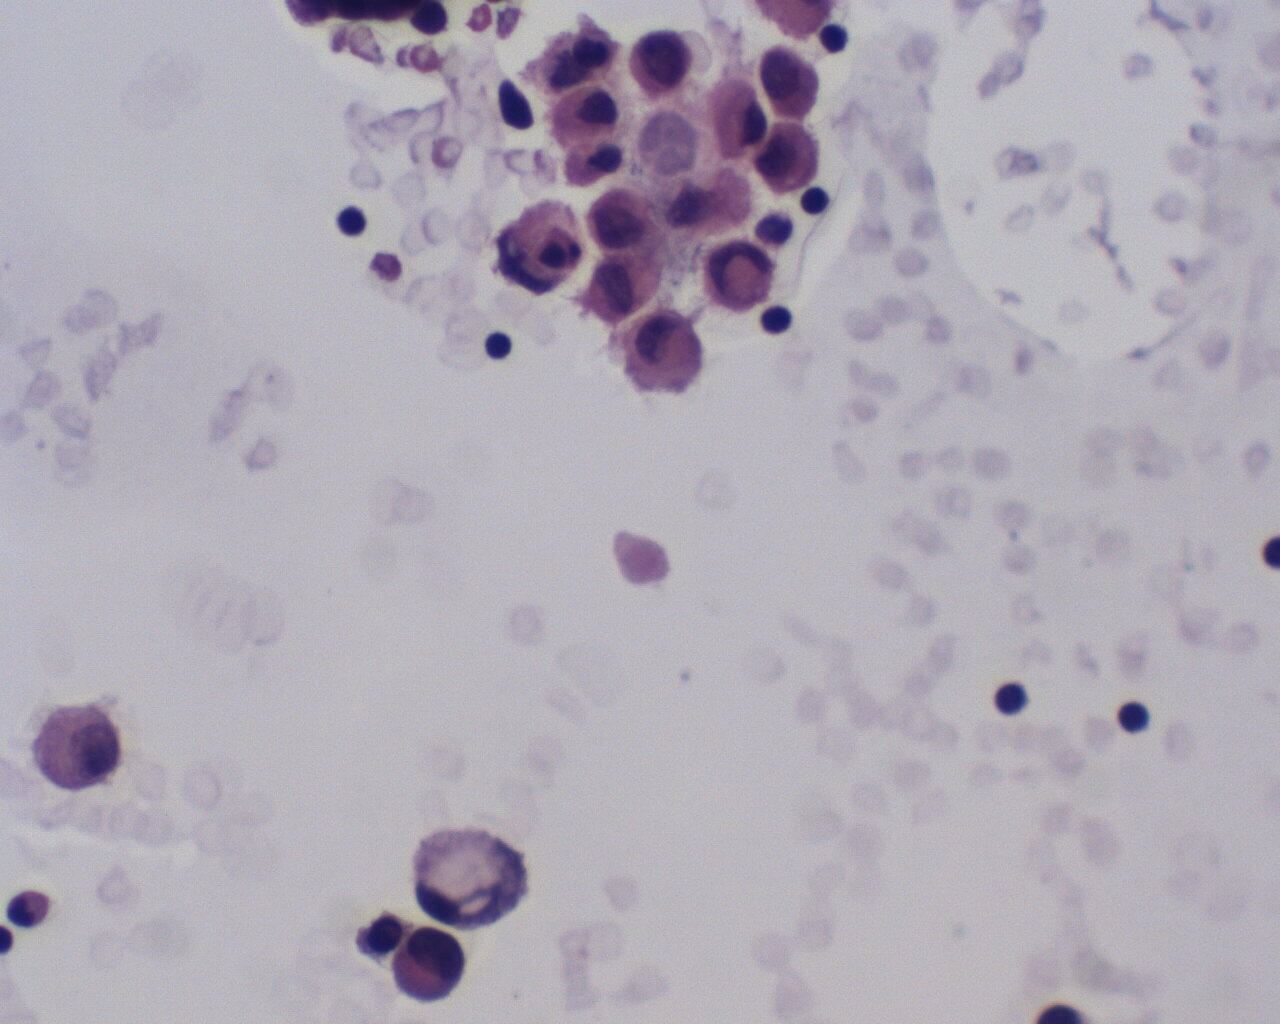ab: (387, 924, 473, 1004), (586, 184, 669, 256), (751, 45, 825, 118), (628, 27, 698, 97), (333, 199, 372, 240)
histo: (409, 824, 531, 932)
lymph: (1113, 694, 1153, 738), (480, 327, 518, 367), (993, 679, 1032, 716), (757, 303, 792, 338)
meso: (29, 698, 123, 796)
